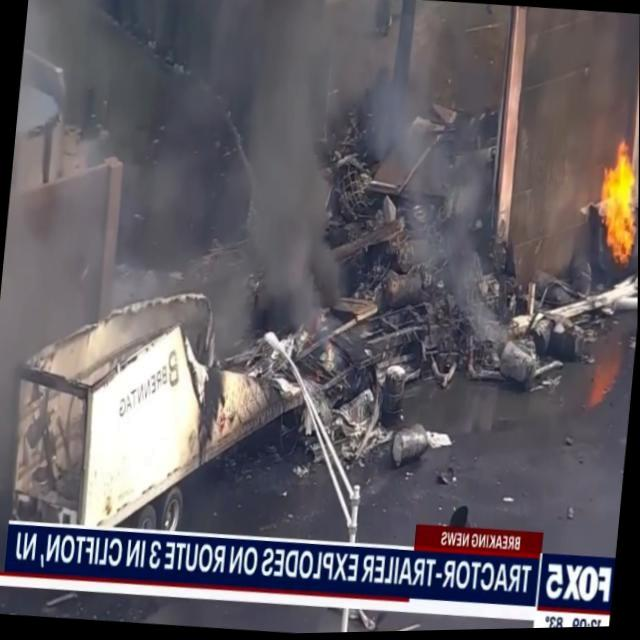fire: (589, 129, 639, 271)
